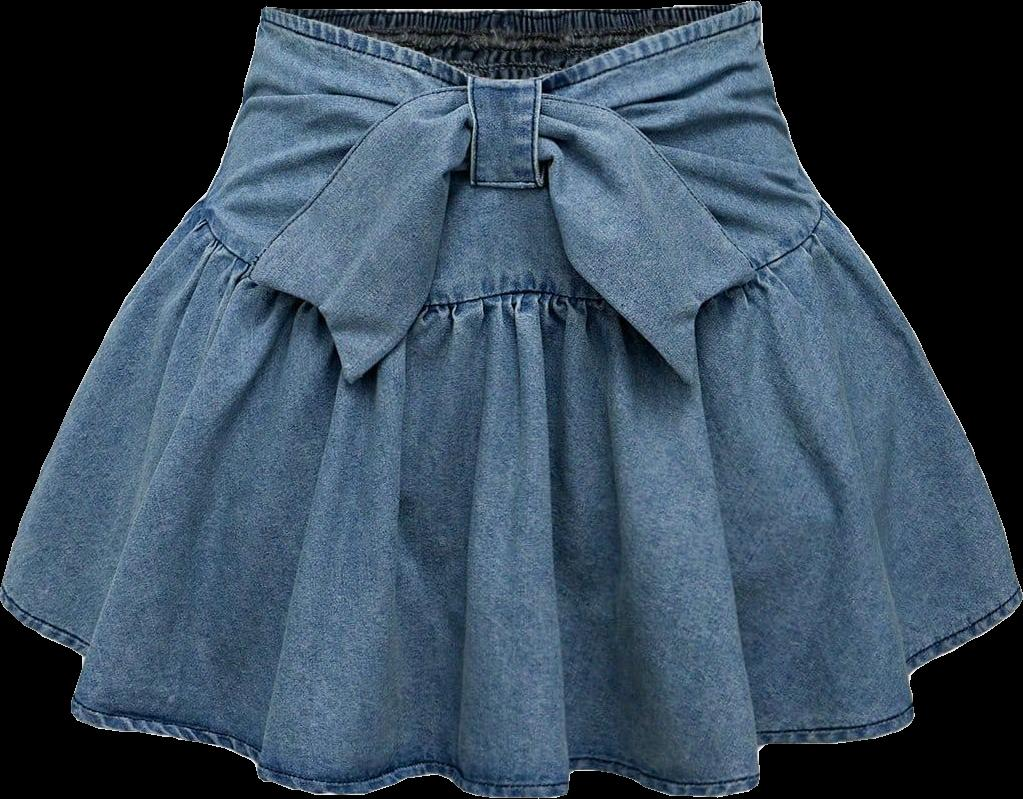Hemline: (0, 589, 1022, 798)
Waistline: (197, 200, 828, 383), (265, 0, 751, 90)
